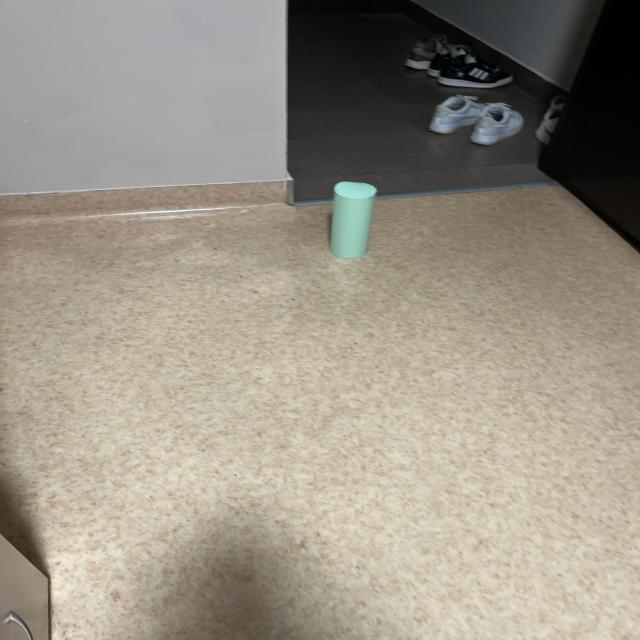meta: (330, 181, 377, 258)
